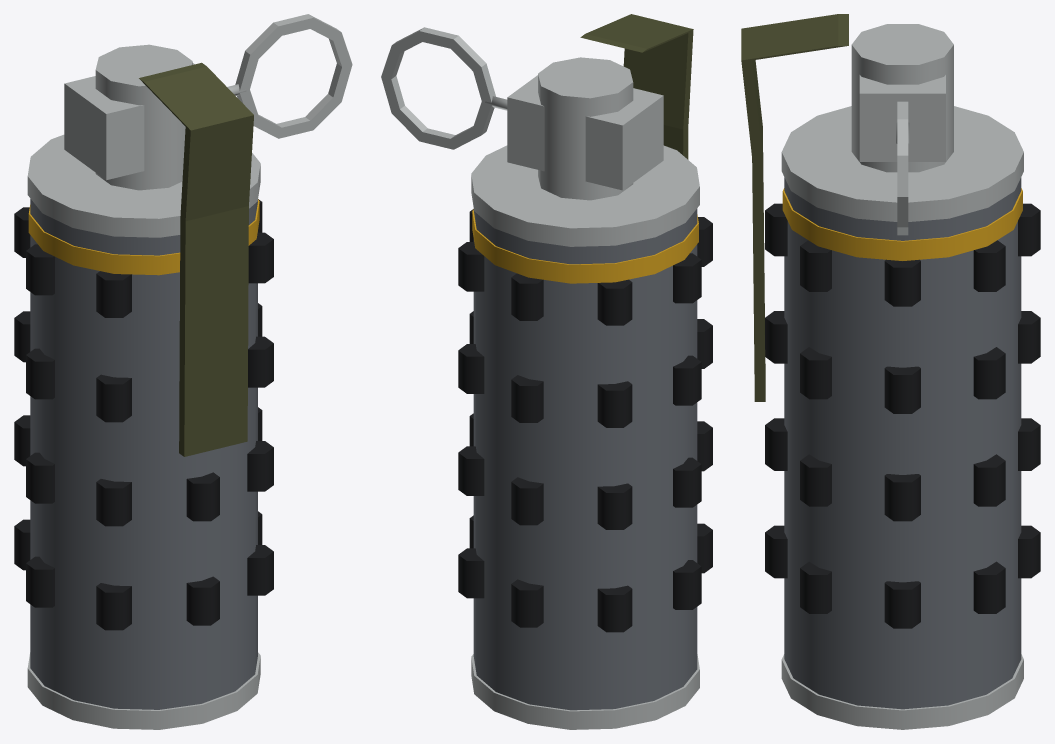
Rendered from flashbang.glb.
3 renders of one model, left to right at view 1: azimuth 30°, elevation 25°; view 2: azimuth 150°, elevation 25°; view 3: azimuth 270°, elevation 25°, orthographic. The views are drawn at different scales.
Parts seen in each view (by area): view 1: flashbang; view 2: flashbang; view 3: flashbang.
Boxes of the visible parts, x1,y1,x2,y2 form: flashbang: (14,14,352,729); flashbang: (381,14,712,729); flashbang: (741,14,1040,729).
Bounding box in the file's own units: 0.0706 × 0.133 × 0.0556.
Materials: 1 (1 with a texture image).
